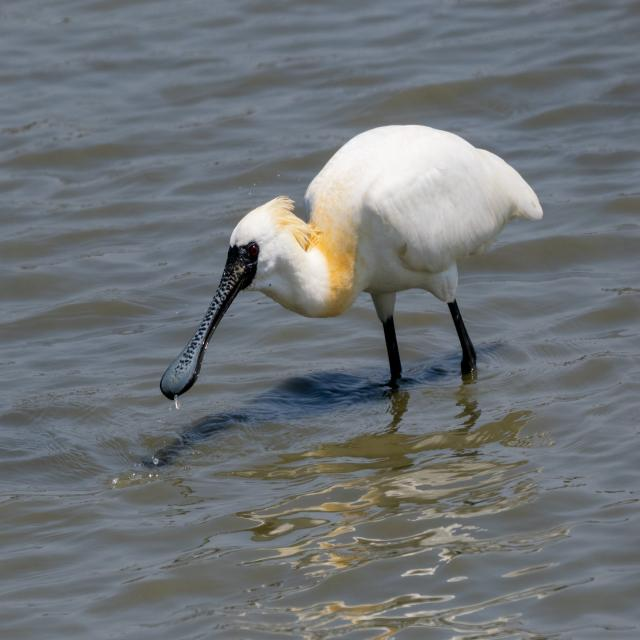Black-faced spoonbill: (161, 126, 542, 399)
